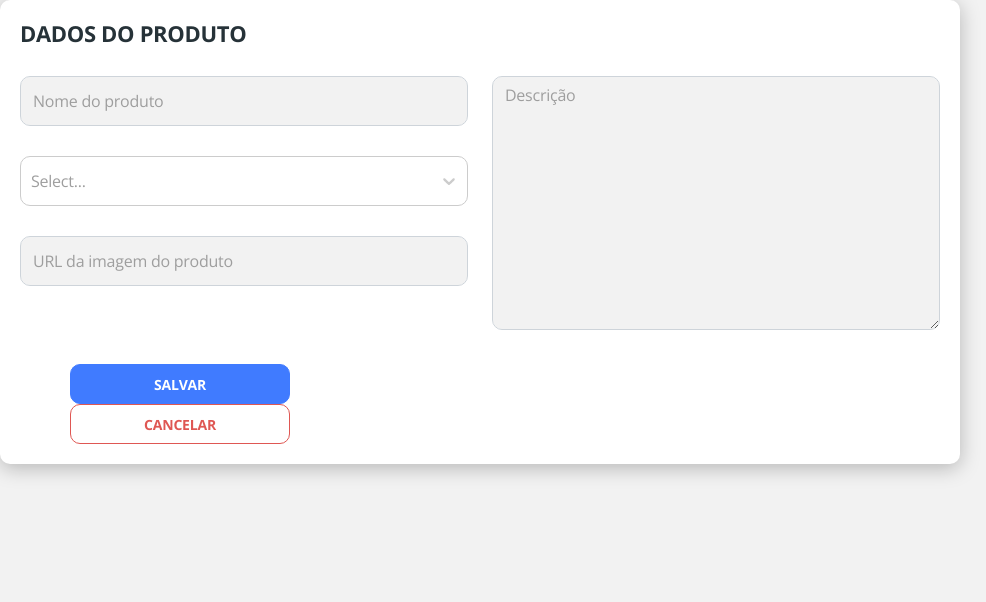
Scenario: Product form creat tests › should show five validation messages when just click submit
The image size is (986, 602).
What coordinates should you click on to do the following:
click the button "SALVAR"
I would click on:
 (180, 384)
Its box is [70, 364, 290, 404].
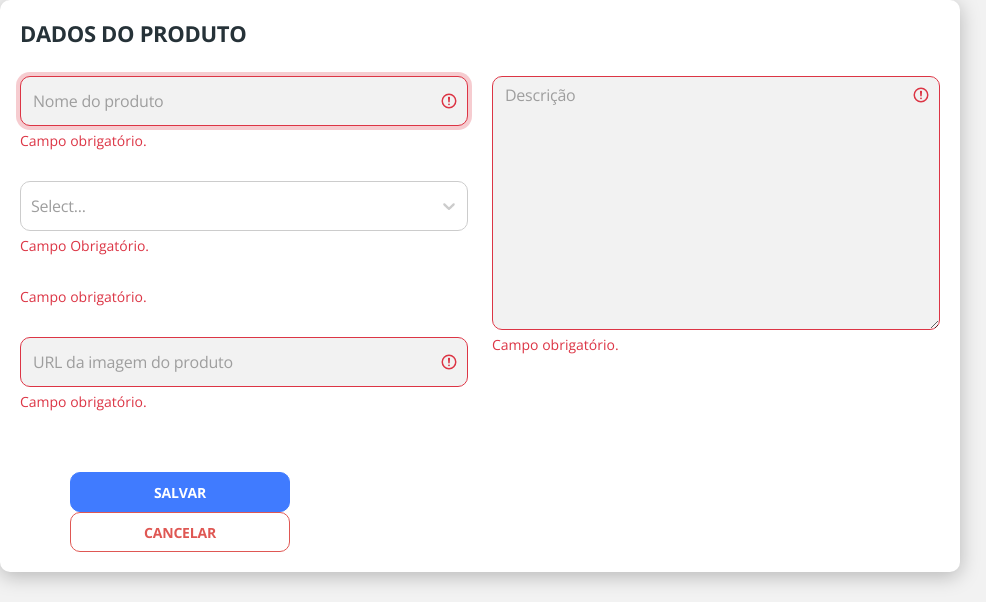
Now the text "Campo obrigatório." is shown 4 times, box [20, 131, 147, 150]; [20, 287, 147, 306]; [20, 392, 147, 411]; [492, 335, 619, 354]
